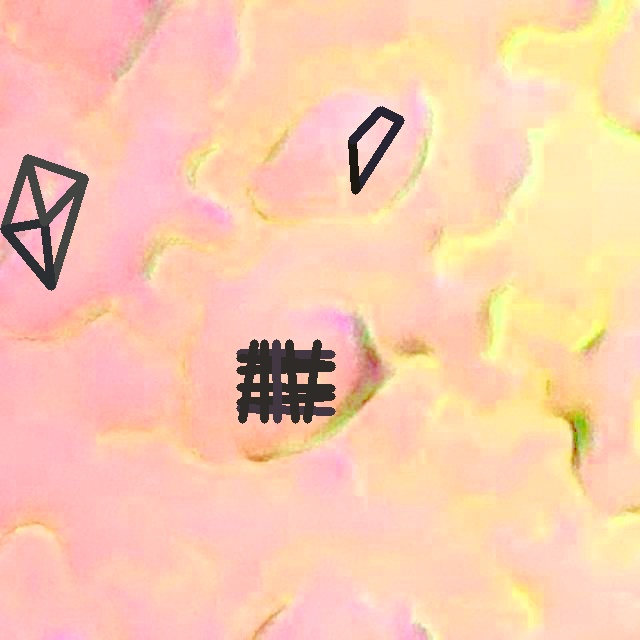close: (236, 339, 335, 423), (348, 106, 403, 193)
open: (1, 154, 88, 290)
